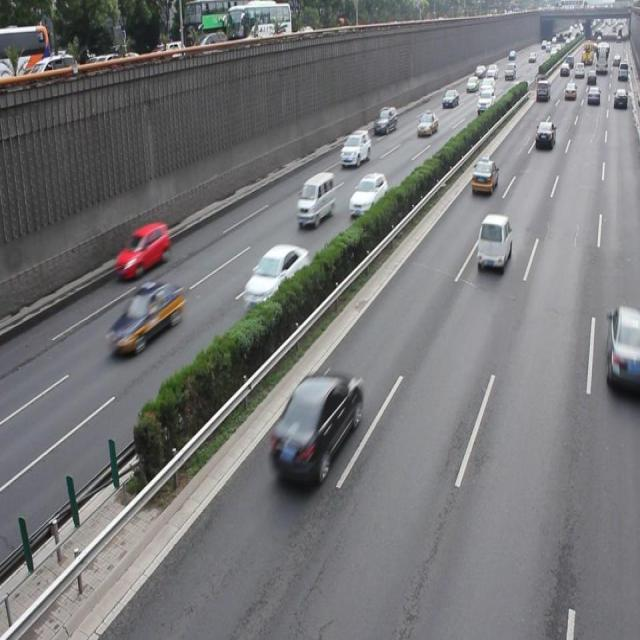car: (269, 368, 362, 484), (106, 277, 185, 356), (241, 241, 308, 311), (604, 305, 640, 392), (115, 223, 169, 278), (348, 172, 388, 216), (338, 128, 371, 168), (469, 158, 497, 196)
truck: (296, 171, 335, 228), (476, 212, 512, 270)
